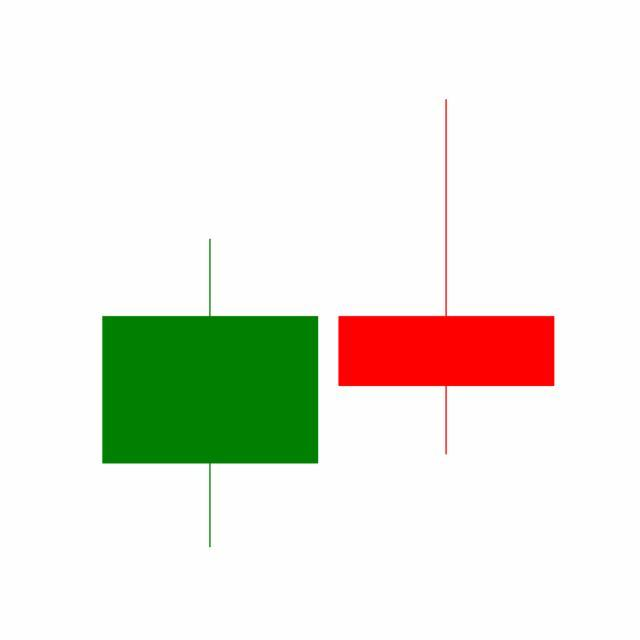Spinning Top: (328, 96, 566, 459)
